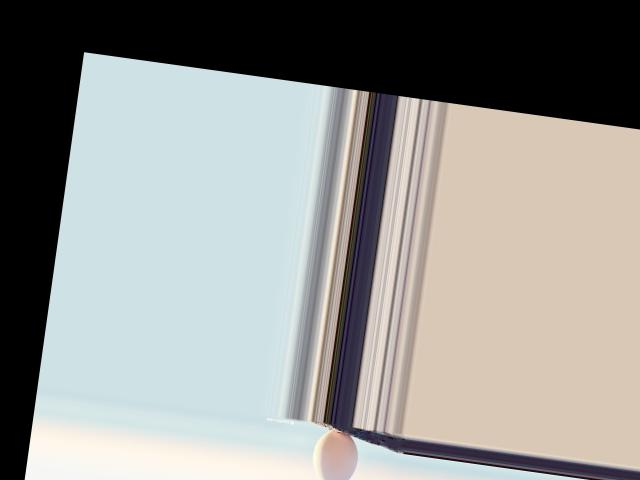egg: (308, 428, 361, 480)
